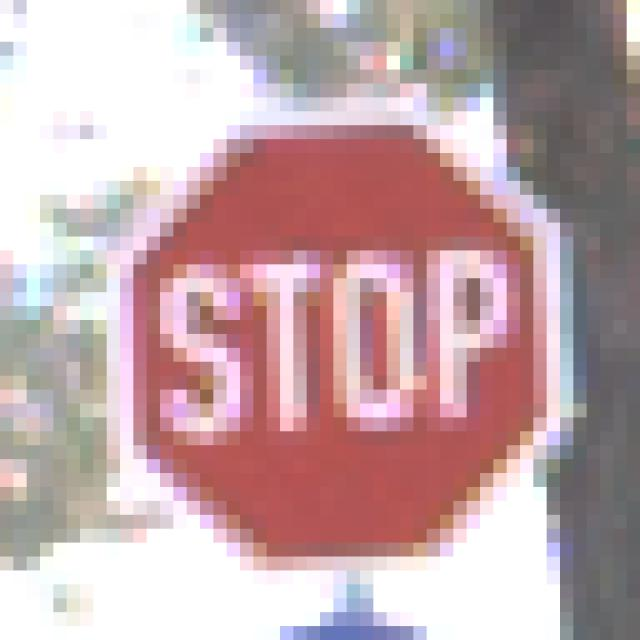STOP: (81, 85, 574, 572)
